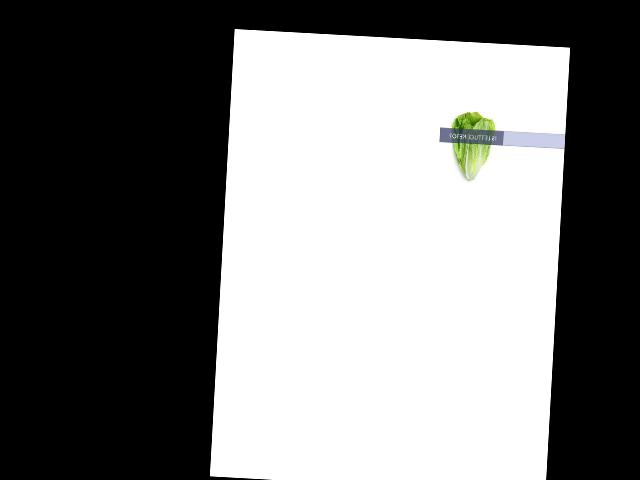lettuce: (445, 110, 497, 188)
